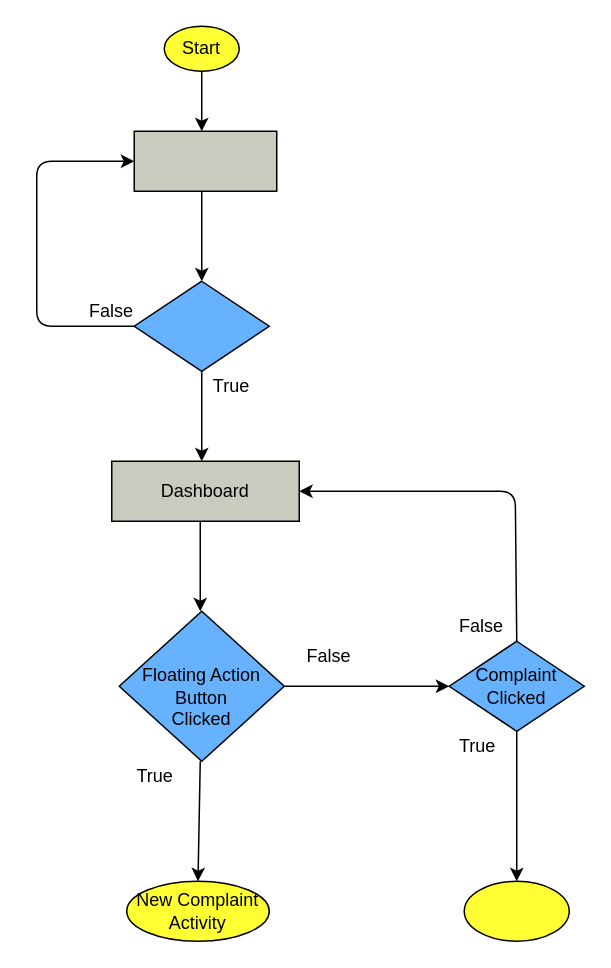
This 611x968 diagram has some shape labels left out. The shapes that lost their labels are listed below. From the top down, each one's box as (x1, y1, x2, y2) in pixels, then its label:
(133, 130, 277, 191): Login Page
(133, 280, 269, 371): Credentials Correct
(463, 880, 569, 941): Complaint Activity
